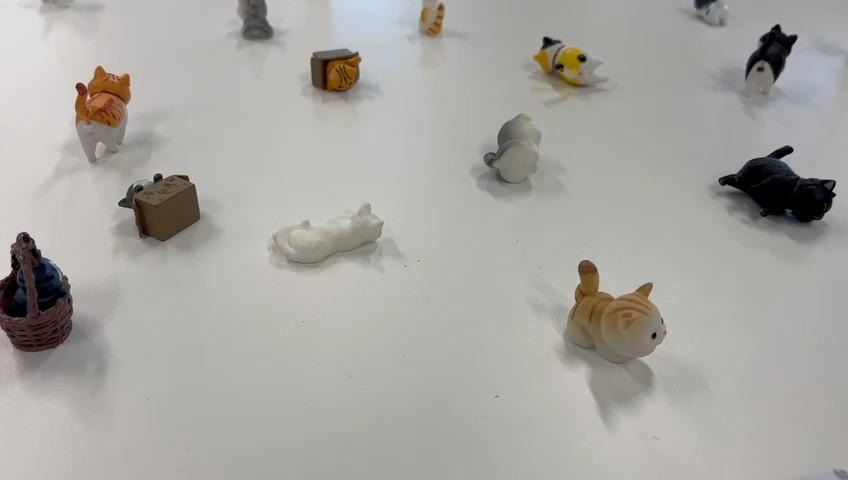pet: (563, 254, 672, 366), (715, 137, 843, 230), (0, 230, 80, 356), (261, 199, 387, 264), (68, 64, 134, 167), (117, 172, 204, 244), (482, 111, 546, 187), (532, 32, 612, 90), (743, 22, 802, 98), (305, 45, 364, 97), (234, 0, 279, 44), (416, 1, 449, 41)
